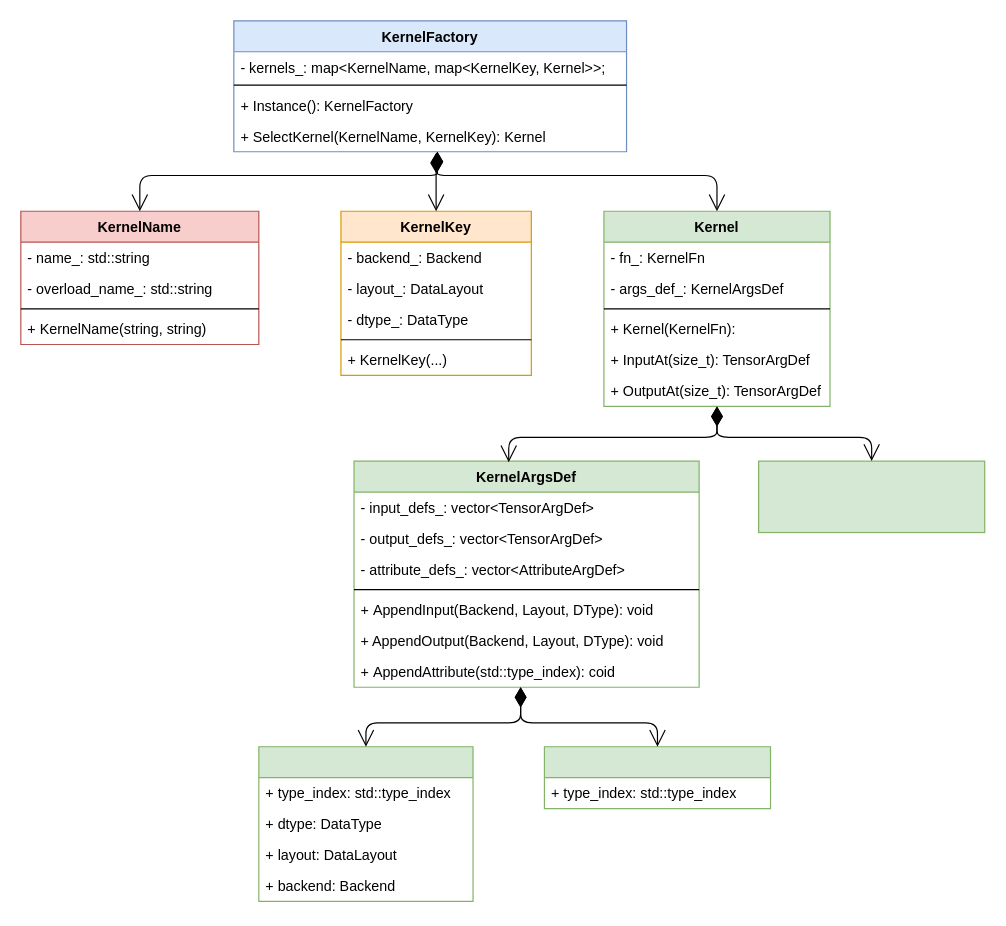
Image size: 1006x926. Some labels were removed from this diagram. The box of each missing label's shape, as (x1, y1, x2, y2) in pixels:
AttribubteArgDef: (543, 746, 771, 809)
KernelFn = void (*)(KernelContext* ctx): (757, 460, 985, 533)
TensorArgDef: (258, 746, 473, 901)
